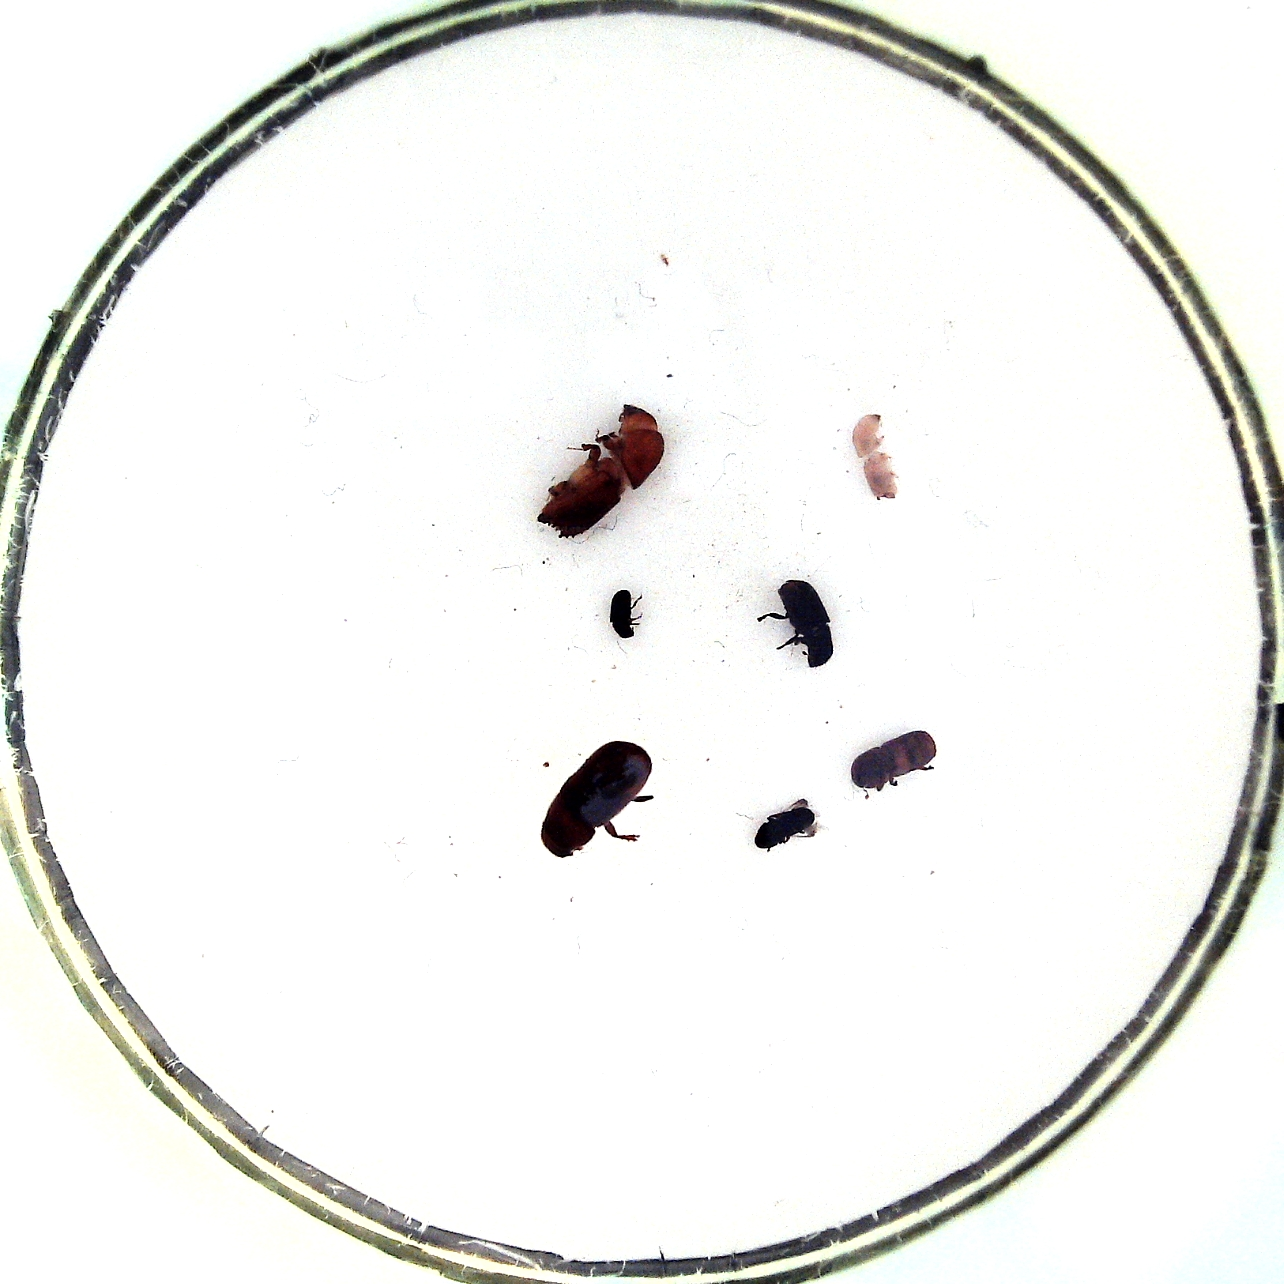Boerner: (537, 397, 669, 541)
Leconte: (535, 731, 660, 860)
Linnaeus: (845, 725, 945, 795)
acuminatus: (845, 406, 907, 503)
armandi: (756, 570, 837, 669)
coleoptera: (748, 793, 822, 851), (604, 583, 646, 641)
